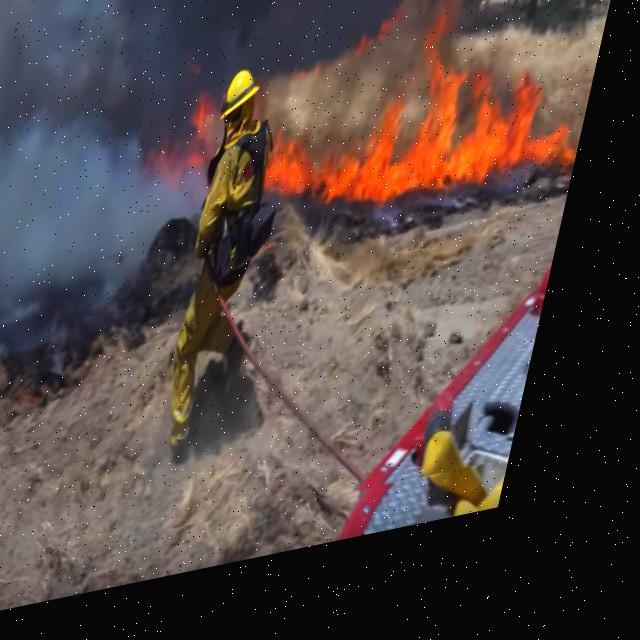Fire: (260, 0, 620, 277), (156, 99, 227, 184), (360, 0, 418, 75)
